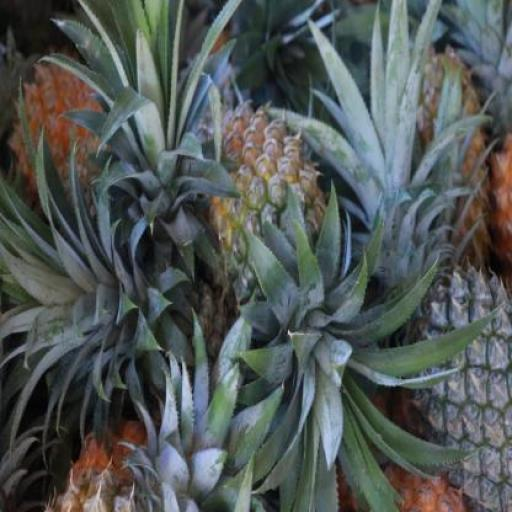------------------------------: (200, 102, 339, 312)
